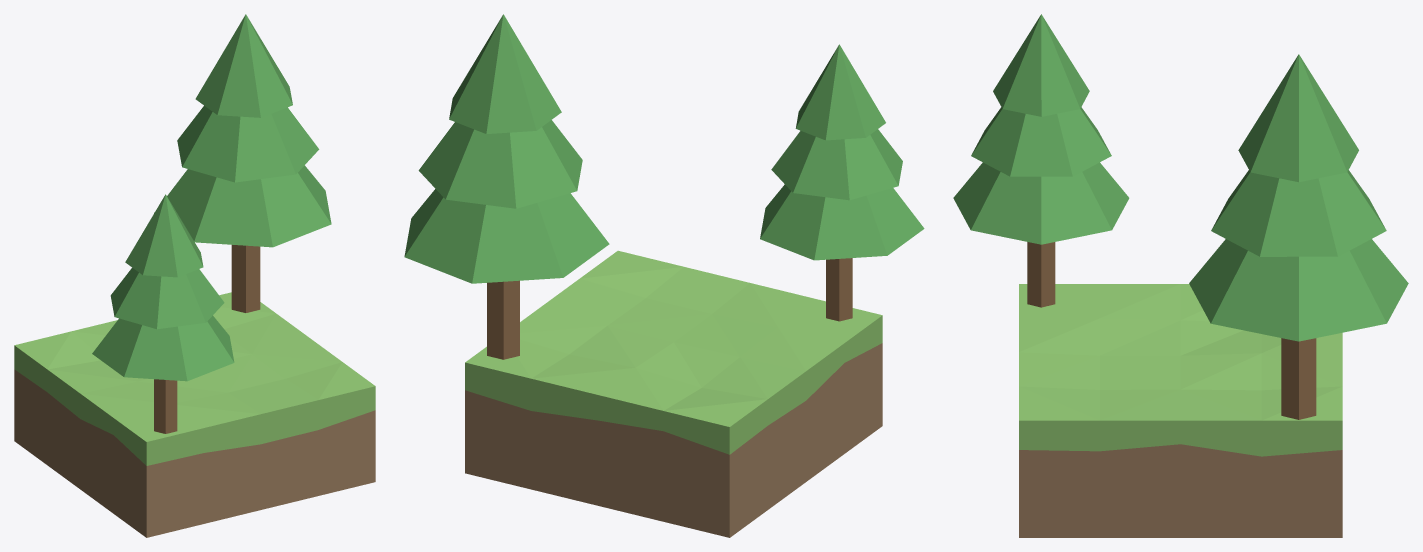
File: GrassTile_Tree2.fbx
3 views of the same model, side by side, from view 1: azimuth 30°, elevation 25°; view 2: azimuth 150°, elevation 25°; view 3: azimuth 270°, elevation 25° (orthographic). The views are drawn at different scales.
Parts seen in each view (by area): view 1: GrassTile_Tree2; view 2: GrassTile_Tree2; view 3: GrassTile_Tree2.
Boxes of the visible parts, <box> form: GrassTile_Tree2: <box>14,14,375,537</box>; GrassTile_Tree2: <box>404,14,924,537</box>; GrassTile_Tree2: <box>953,14,1408,537</box>.
Bounding box in the file's own units: 1.41 × 1.62 × 1.41.
